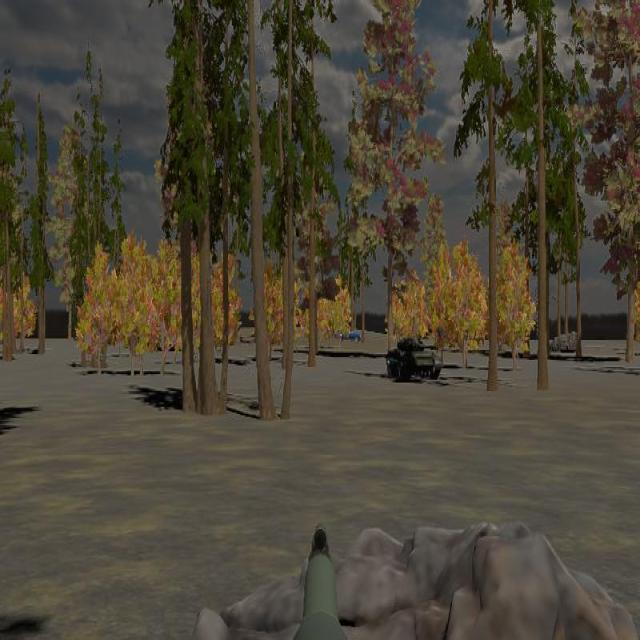Tank: (386, 334, 442, 382)
